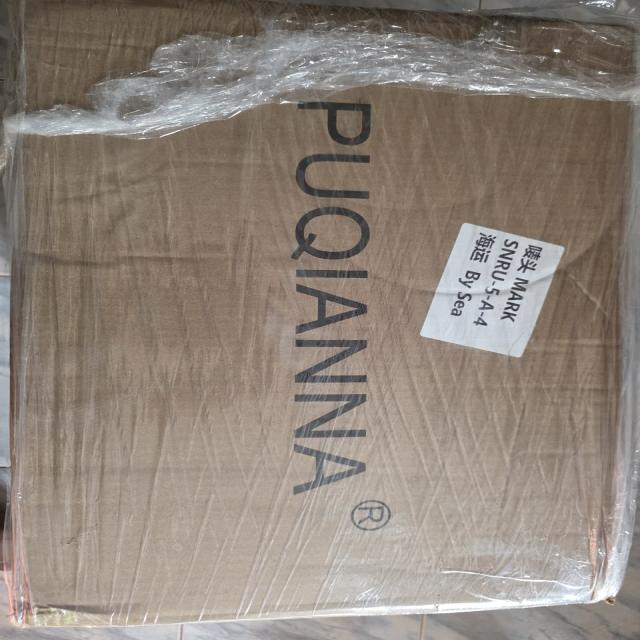carton_box: (0, 0, 635, 640)
export_mark_label: (420, 198, 571, 364)
